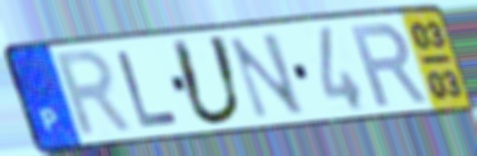4: (318, 22, 367, 114)
L: (112, 48, 183, 131)
N: (225, 30, 309, 122)
R: (52, 46, 139, 142), (346, 20, 431, 110)
U: (166, 33, 247, 129)
